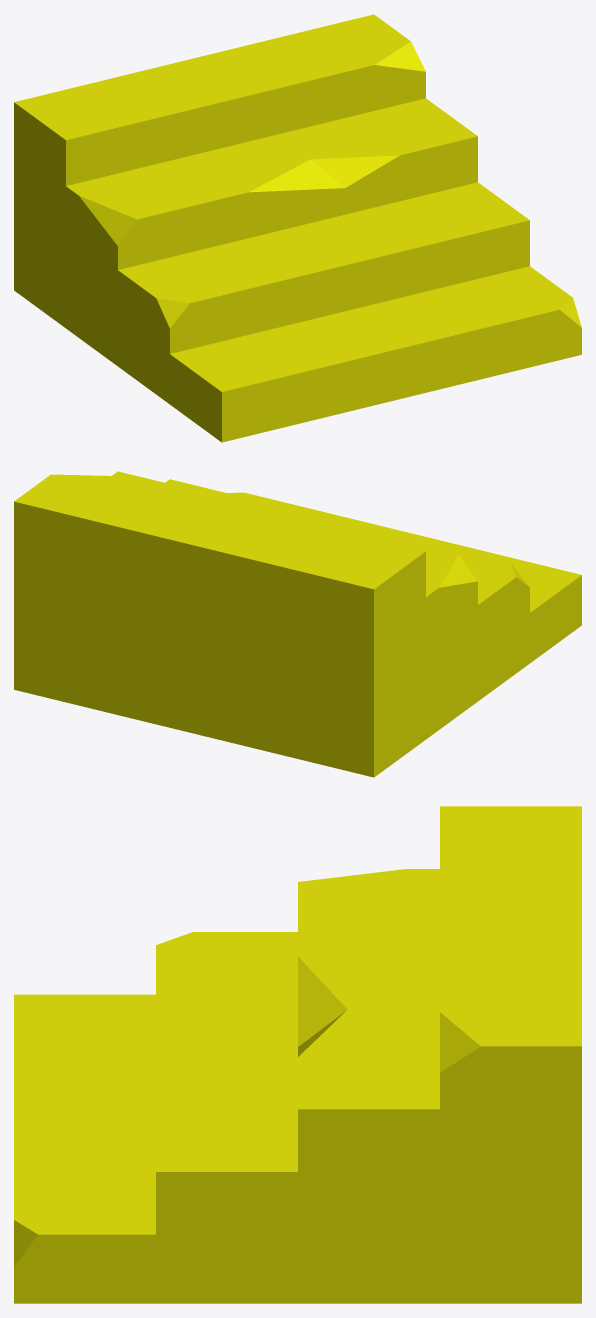
Rendered from SM_PolygonPrototype_Buildings_Stairs_1x1_01P.glb.
3 views of the same model, one above another, from view 1: azimuth 30°, elevation 25°; view 2: azimuth 150°, elevation 25°; view 3: azimuth 270°, elevation 25° (orthographic). The views are drawn at different scales.
Visible parts, largest first — view 1: SM_PolygonPrototype_Buildings_Stairs_1x1_01P; view 2: SM_PolygonPrototype_Buildings_Stairs_1x1_01P; view 3: SM_PolygonPrototype_Buildings_Stairs_1x1_01P.
Part boxes in pixels (x1,y1,x2,y2): SM_PolygonPrototype_Buildings_Stairs_1x1_01P: (14, 14, 581, 442); SM_PolygonPrototype_Buildings_Stairs_1x1_01P: (14, 471, 581, 777); SM_PolygonPrototype_Buildings_Stairs_1x1_01P: (14, 806, 581, 1303).
Size of the model in its own units: 1 by 0.4995 by 1.
1 material, 1 textured.
